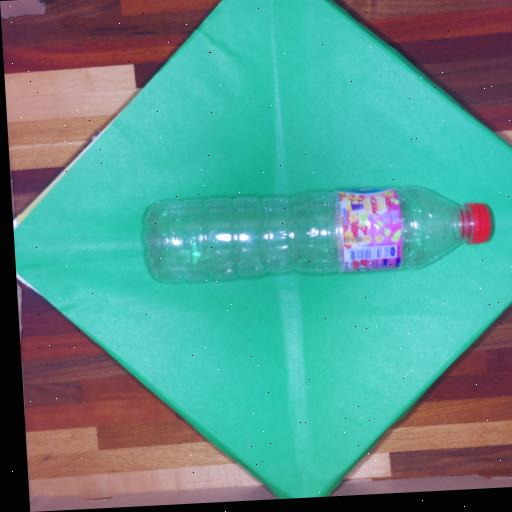bottle: (140, 179, 497, 287)
